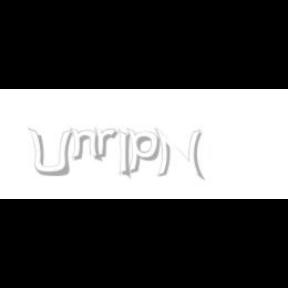I: (119, 128, 132, 180)
N: (154, 128, 202, 180)
U: (28, 128, 72, 178)
n: (69, 128, 103, 162)
p: (126, 128, 163, 174)
r: (94, 128, 120, 158)
